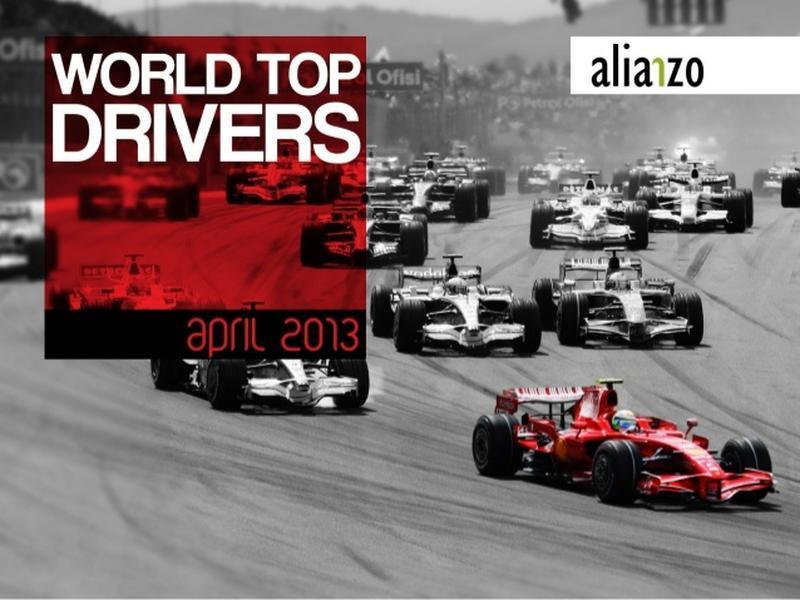f1: (463, 382, 794, 528), (546, 255, 737, 365), (372, 263, 539, 341), (525, 171, 656, 262), (299, 193, 439, 267), (641, 153, 746, 232)
